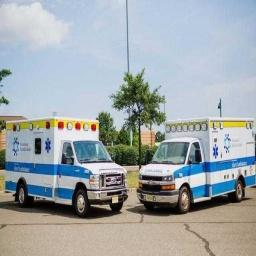Ambulance: (5, 117, 127, 216), (137, 118, 255, 212)
